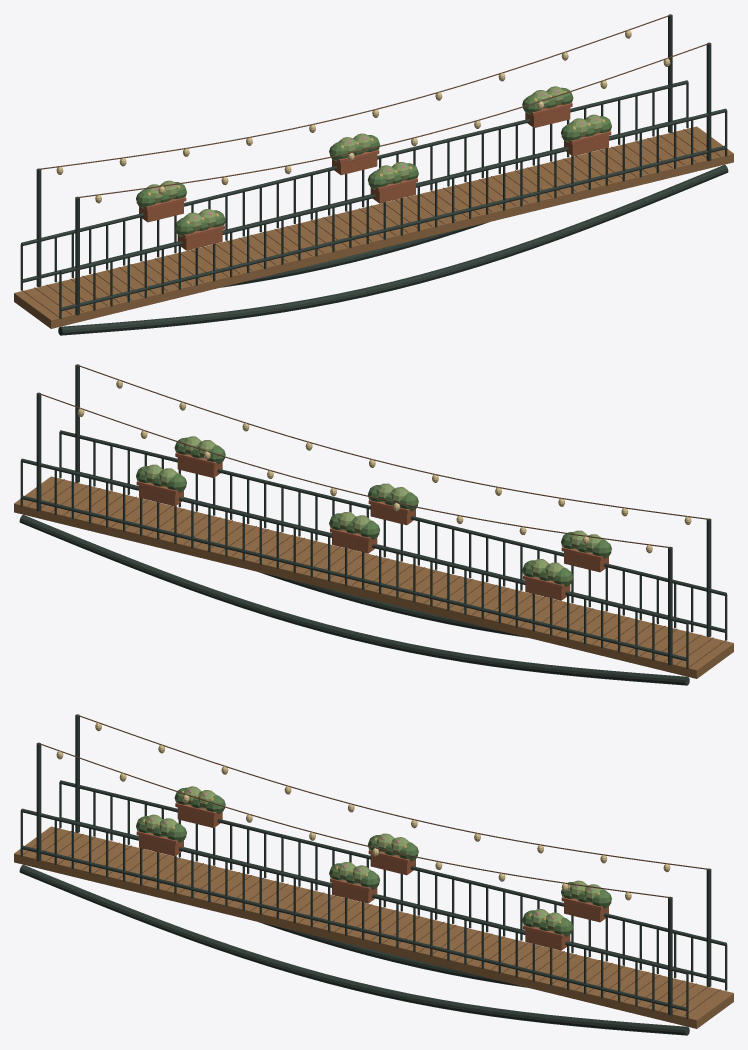
Rendered from lantern-bridge.glb.
3 renders of one model, top to bottom at view 1: azimuth 30°, elevation 25°; view 2: azimuth 150°, elevation 25°; view 3: azimuth 330°, elevation 25°, orthographic.
Visible parts, largest first — view 1: lantern-bridge_Architecture_Mesh; view 2: lantern-bridge_Architecture_Mesh; view 3: lantern-bridge_Architecture_Mesh.
Boxes of the visible parts, x1,y1,x2,y2 form: lantern-bridge_Architecture_Mesh: [14, 14, 733, 335]; lantern-bridge_Architecture_Mesh: [14, 364, 733, 685]; lantern-bridge_Architecture_Mesh: [14, 714, 733, 1035].
Size of the model in its own units: 15.91 by 3.78 by 1.97.
